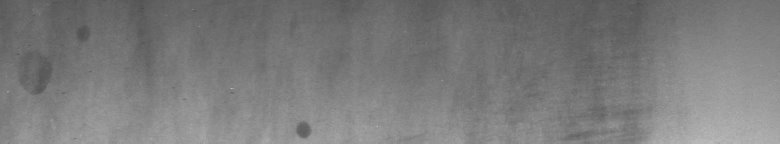fi: (293, 116, 315, 136)
